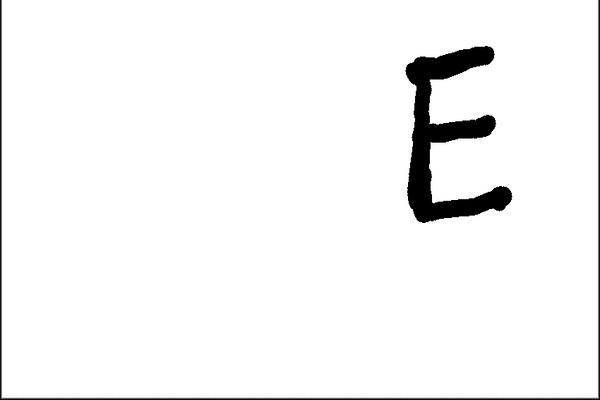E: (399, 42, 515, 225)
